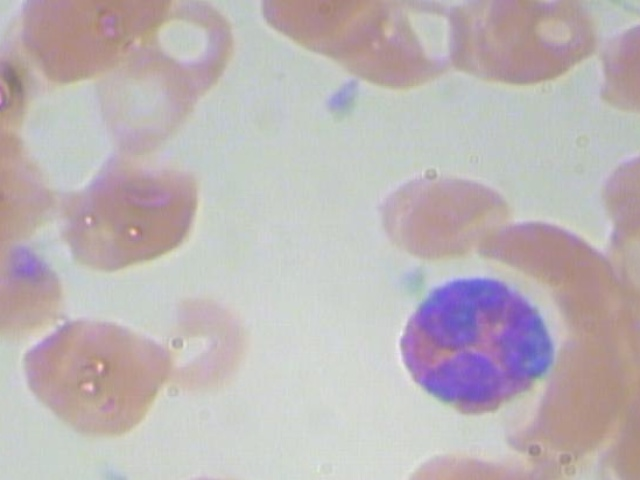Platelets: (317, 76, 367, 126)
RBC: (21, 315, 174, 442), (57, 155, 217, 273), (365, 163, 511, 264), (339, 0, 473, 92), (87, 50, 199, 158), (129, 0, 241, 97), (147, 294, 255, 394), (486, 0, 603, 69), (0, 239, 67, 345), (595, 17, 640, 122), (0, 42, 38, 149)
WBC: (382, 271, 568, 421)
